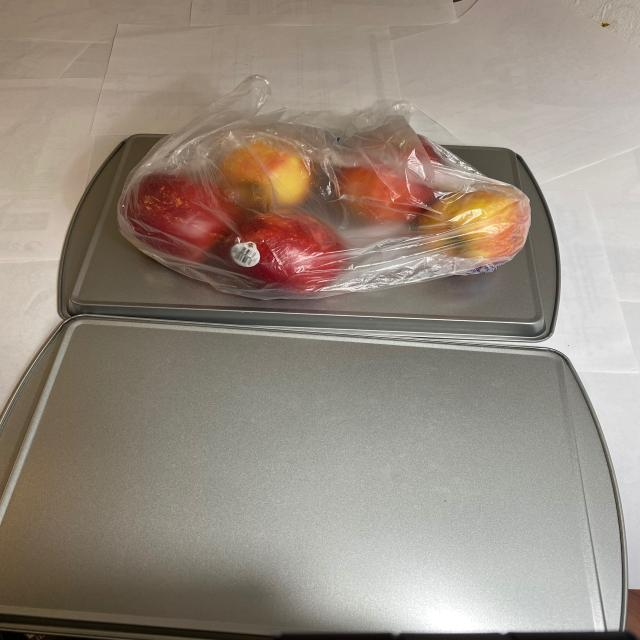apple: (119, 131, 538, 299)
